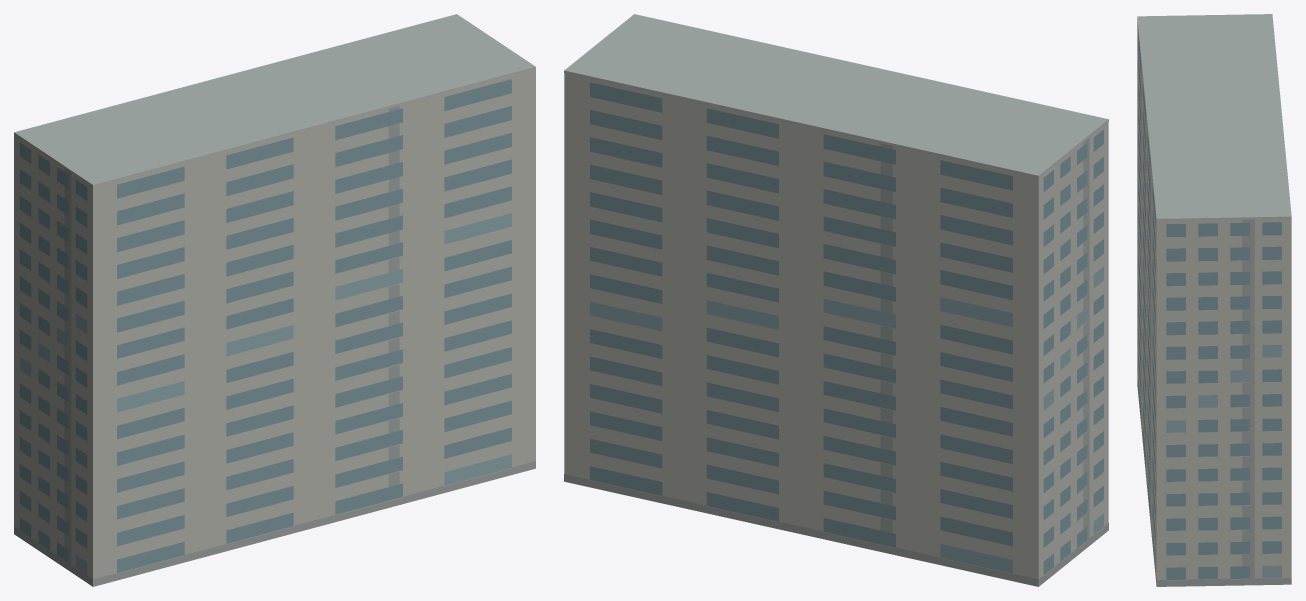
Rendered from residential-a5c37656-f0be-4c74-bc39-663745a5aecb.glb.
3 renders of one model, left to right at view 1: azimuth 30°, elevation 25°; view 2: azimuth 150°, elevation 25°; view 3: azimuth 270°, elevation 25°, orthographic. The views are drawn at different scales.
Visible parts, largest first — view 1: residential-a5c37656-f0be-4c74-bc39-663745a5aecb.tmp; view 2: residential-a5c37656-f0be-4c74-bc39-663745a5aecb.tmp; view 3: residential-a5c37656-f0be-4c74-bc39-663745a5aecb.tmp.
Boxes of the visible parts, x1,y1,x2,y2 form: residential-a5c37656-f0be-4c74-bc39-663745a5aecb.tmp: (14, 14, 535, 586); residential-a5c37656-f0be-4c74-bc39-663745a5aecb.tmp: (564, 14, 1108, 586); residential-a5c37656-f0be-4c74-bc39-663745a5aecb.tmp: (1137, 14, 1291, 586).
Bounding box in the file's own units: 47.76 × 40 × 15.22.
